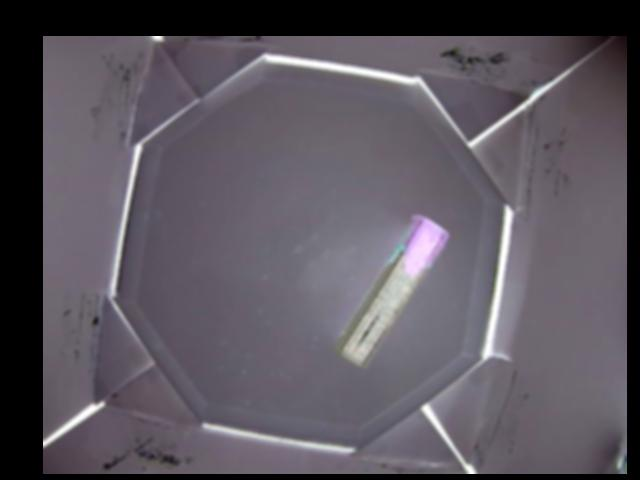Bottle: (331, 215, 447, 367)
